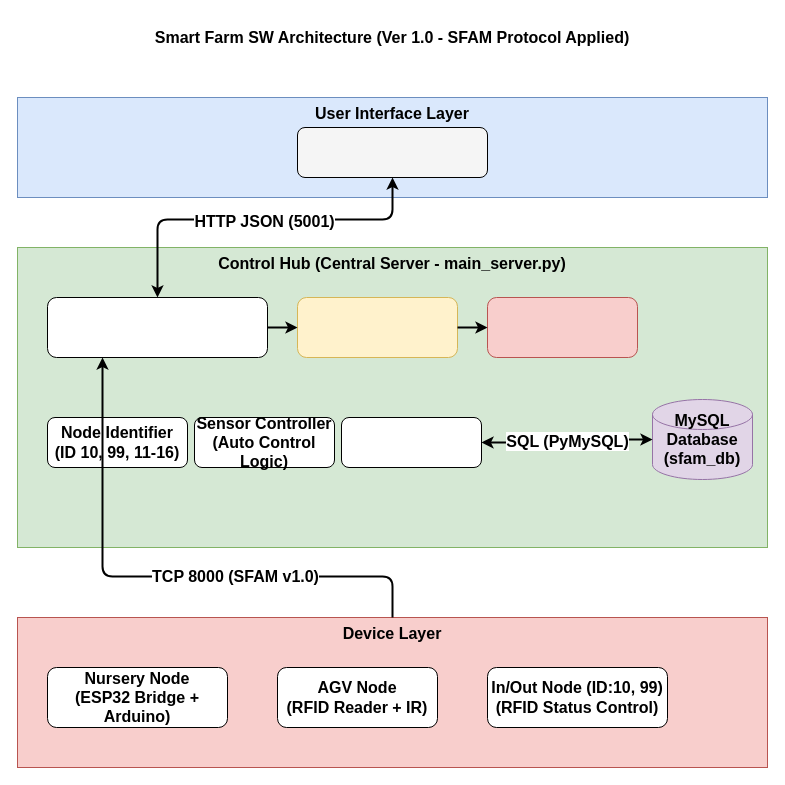
Image size: 785x785. Some labels were removed from this diagram. Each missing label, with the centre of its shape:
Monitoring GUI (PyQt6 / Web Dash): [392,152]
Network Handlers (TCP 8000 / UDP 7070 / HTTP 5001): [157,327]
RFID Event Handler (0x24 Processing): [562,327]
SFAM Packet Parser (CRC16 / Protocol v1.0): [377,327]
Task Dispatcher (3s Interval Polling): [411,442]
